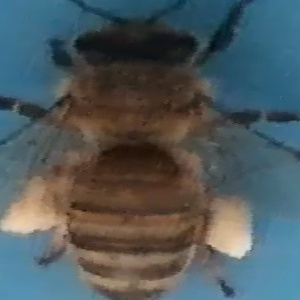bee: (10, 2, 278, 299)
